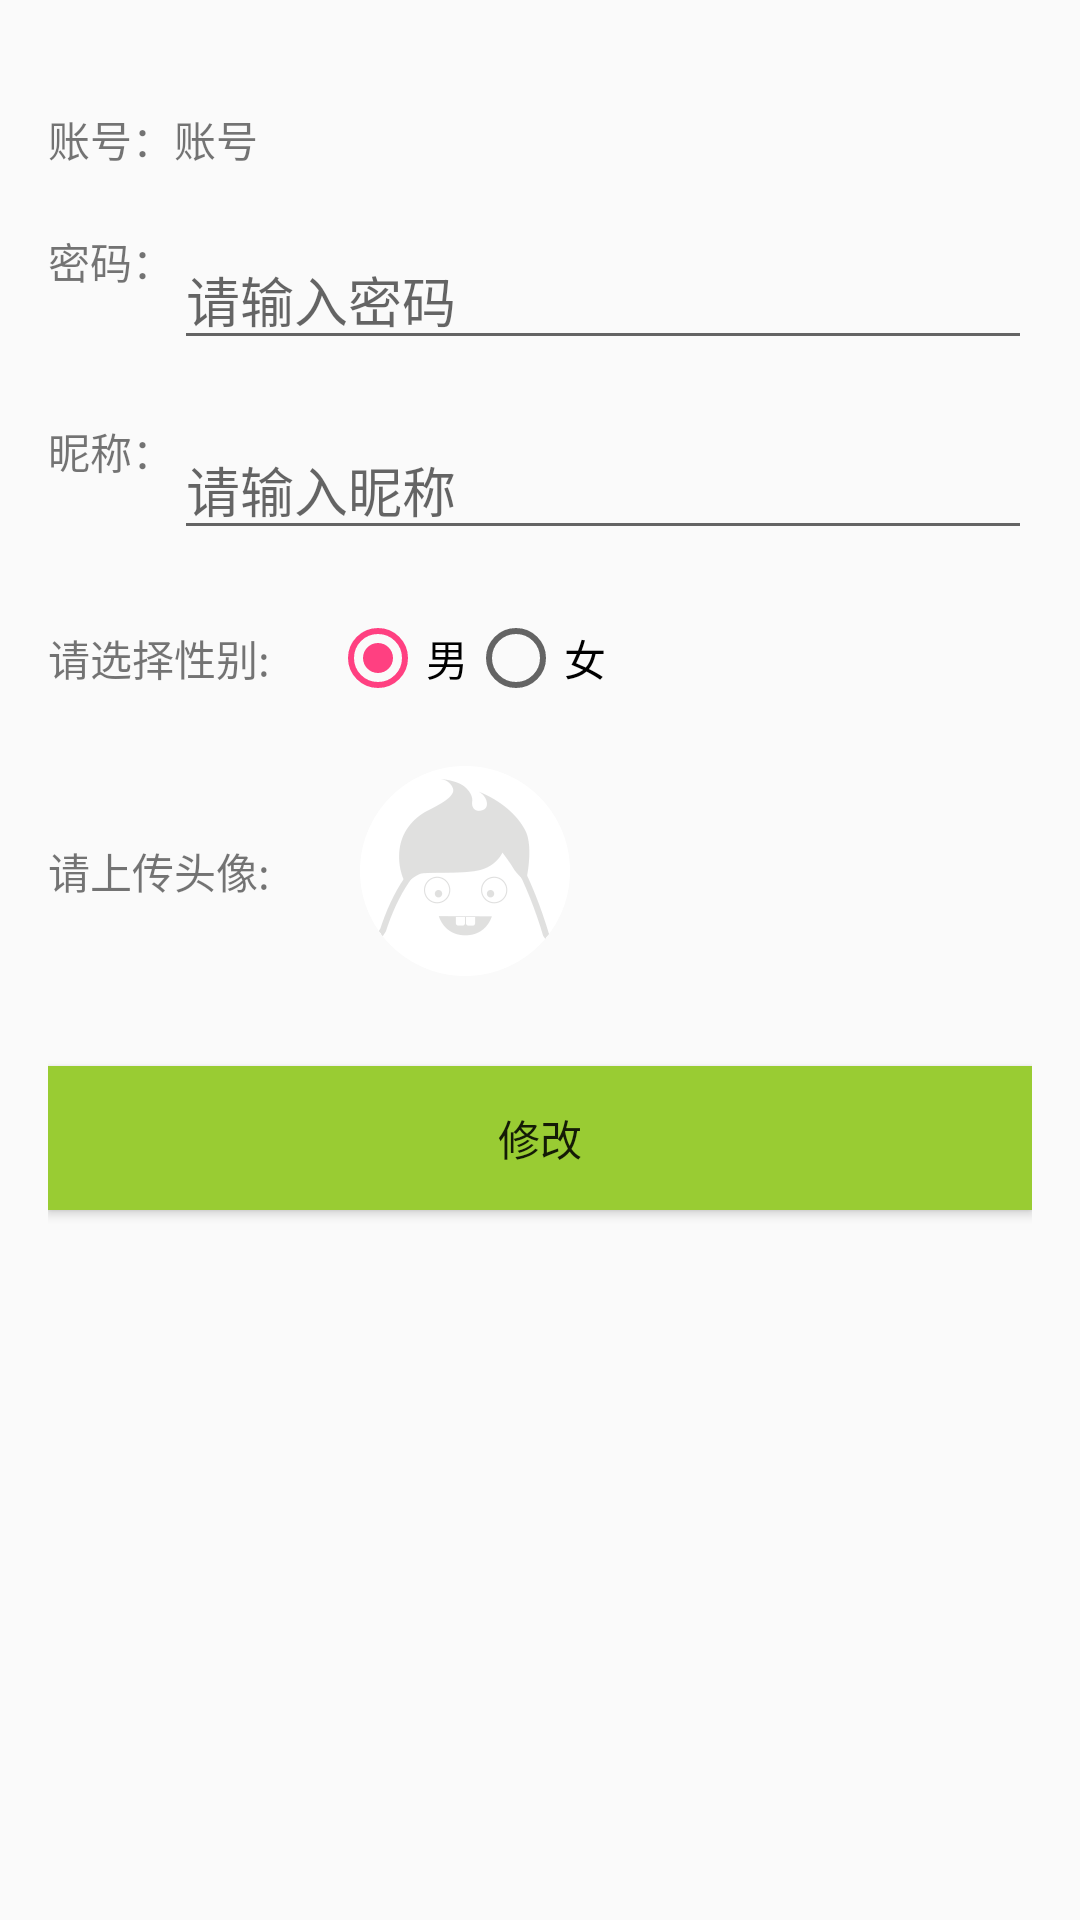

Screen size 1080×1920. Icon name, then its center in pixels as [x,y]:
personal user: [464,859]
